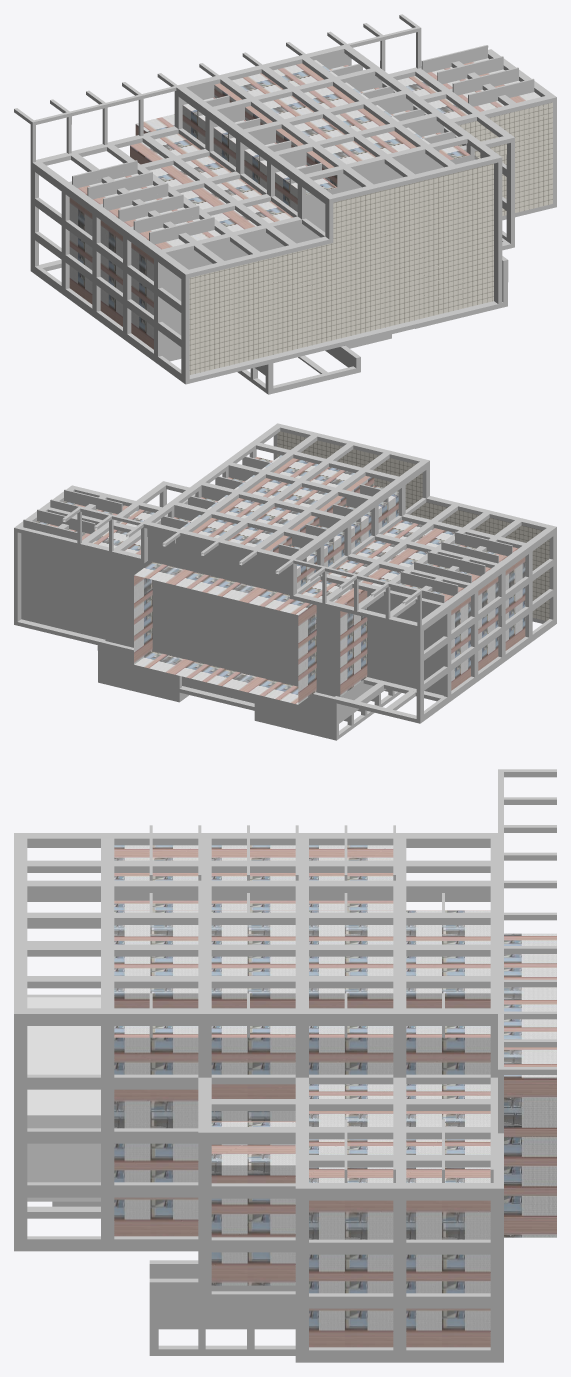
The picture shows the model from 3 angles, top to bottom: view 1: azimuth 30°, elevation 25°; view 2: azimuth 150°, elevation 25°; view 3: azimuth 270°, elevation 25°; orthographic projection. The views are drawn at different scales.
Visible parts, largest first — view 1: 教师宿舍 2 .22; view 2: 教师宿舍 2 .22; view 3: 教师宿舍 2 .22.
Part boxes in pixels (x1=…): 教师宿舍 2 .22: x1=14, y1=14, x2=556, y2=394; 教师宿舍 2 .22: x1=14, y1=423, x2=556, y2=740; 教师宿舍 2 .22: x1=14, y1=769, x2=556, y2=1362.
Size of the model in its own units: 57 by 22.77 by 36.8.
4 materials, 2 textured.
